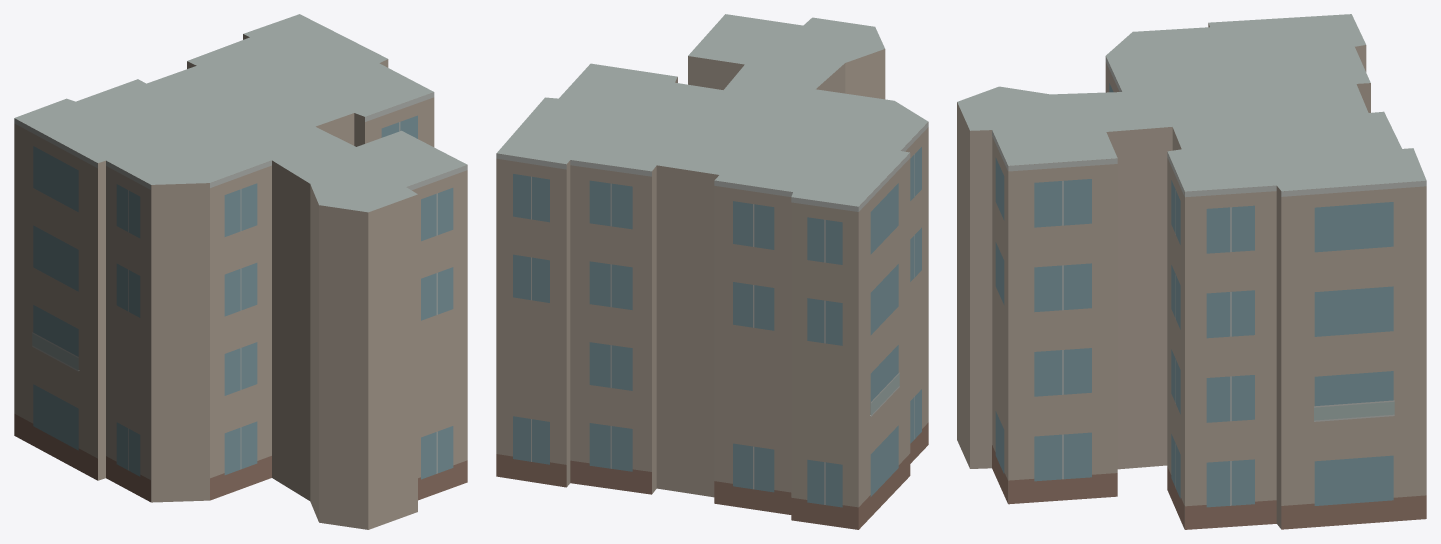
The model's file is survey-upis-32495939.glb.
3 renders of one model, left to right at view 1: azimuth 30°, elevation 25°; view 2: azimuth 150°, elevation 25°; view 3: azimuth 270°, elevation 25°, orthographic. The views are drawn at different scales.
Visible parts, largest first — view 1: survey-upis-32495939.tmp; view 2: survey-upis-32495939.tmp; view 3: survey-upis-32495939.tmp.
Boxes of the visible parts, x1,y1,x2,y2 form: survey-upis-32495939.tmp: (14,14,467,529); survey-upis-32495939.tmp: (496,14,928,529); survey-upis-32495939.tmp: (957,14,1426,529).
Size of the model in its own units: 16.62 by 14.75 by 18.56.
